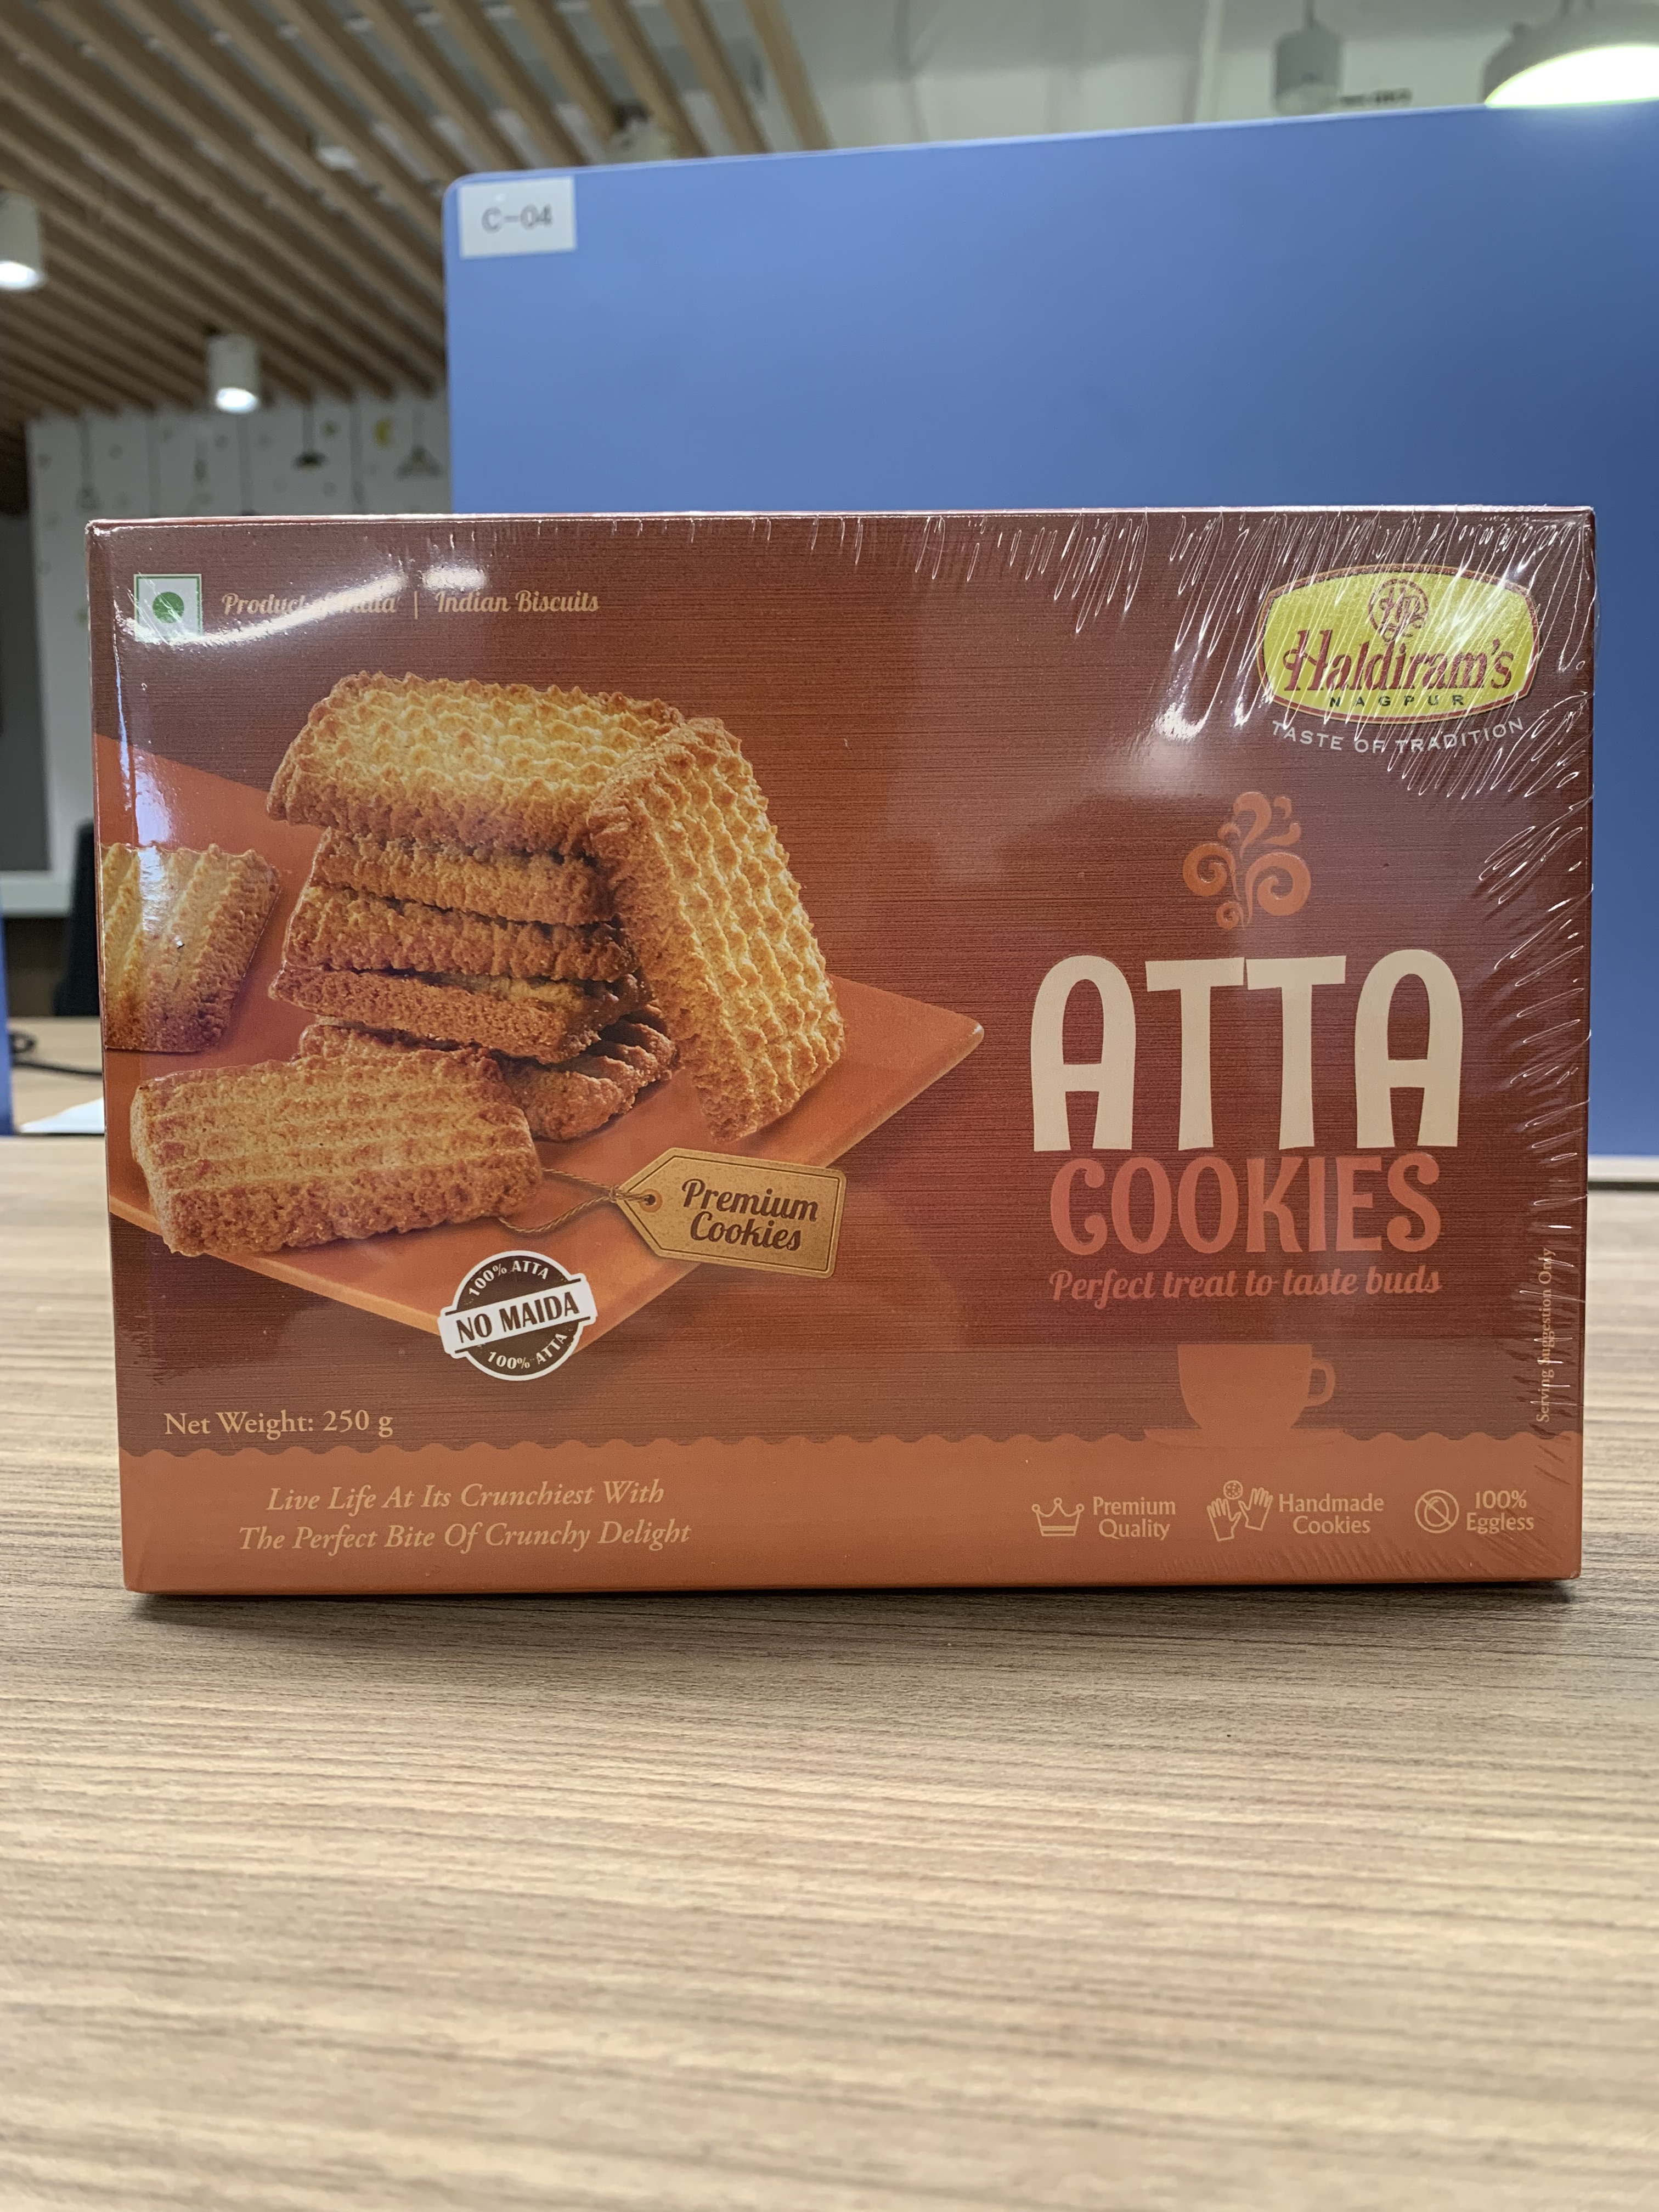cookies_200g-299g: (122, 533, 1547, 1566)
